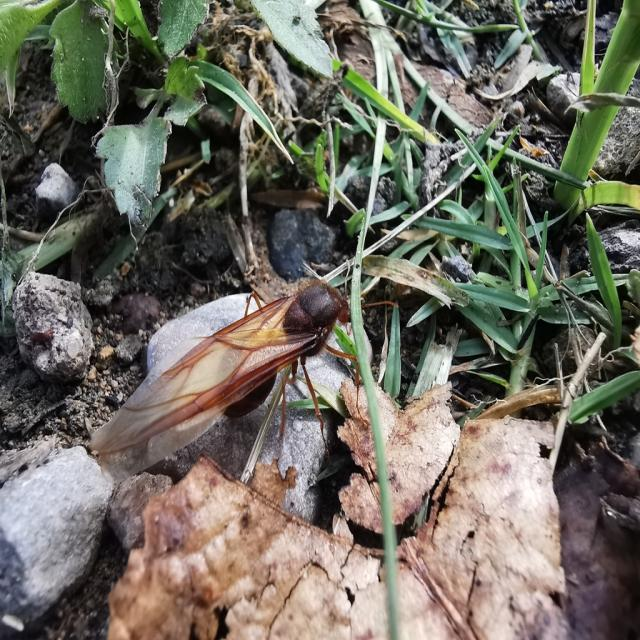Alive-Male-Alate: (88, 258, 399, 484)
